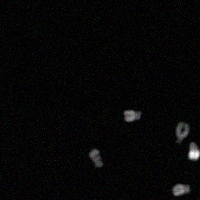chromosome: (175, 122, 188, 143), (89, 148, 103, 167), (188, 142, 200, 159), (173, 184, 190, 196), (124, 110, 140, 121), (193, 199, 200, 200)
